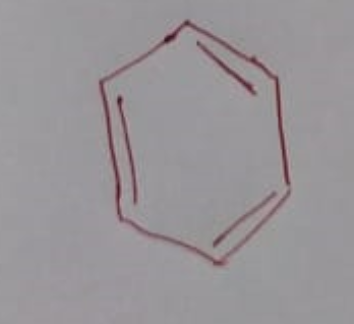shape_mask: (88, 9, 306, 279)
